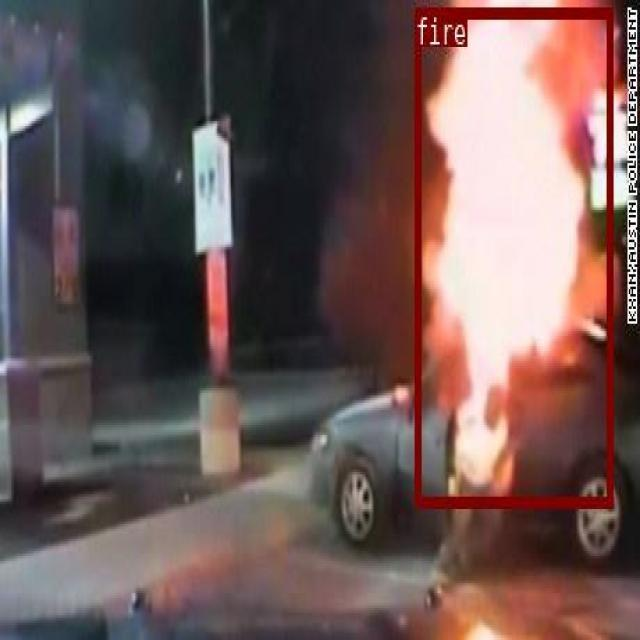fire: (415, 5, 612, 504)
